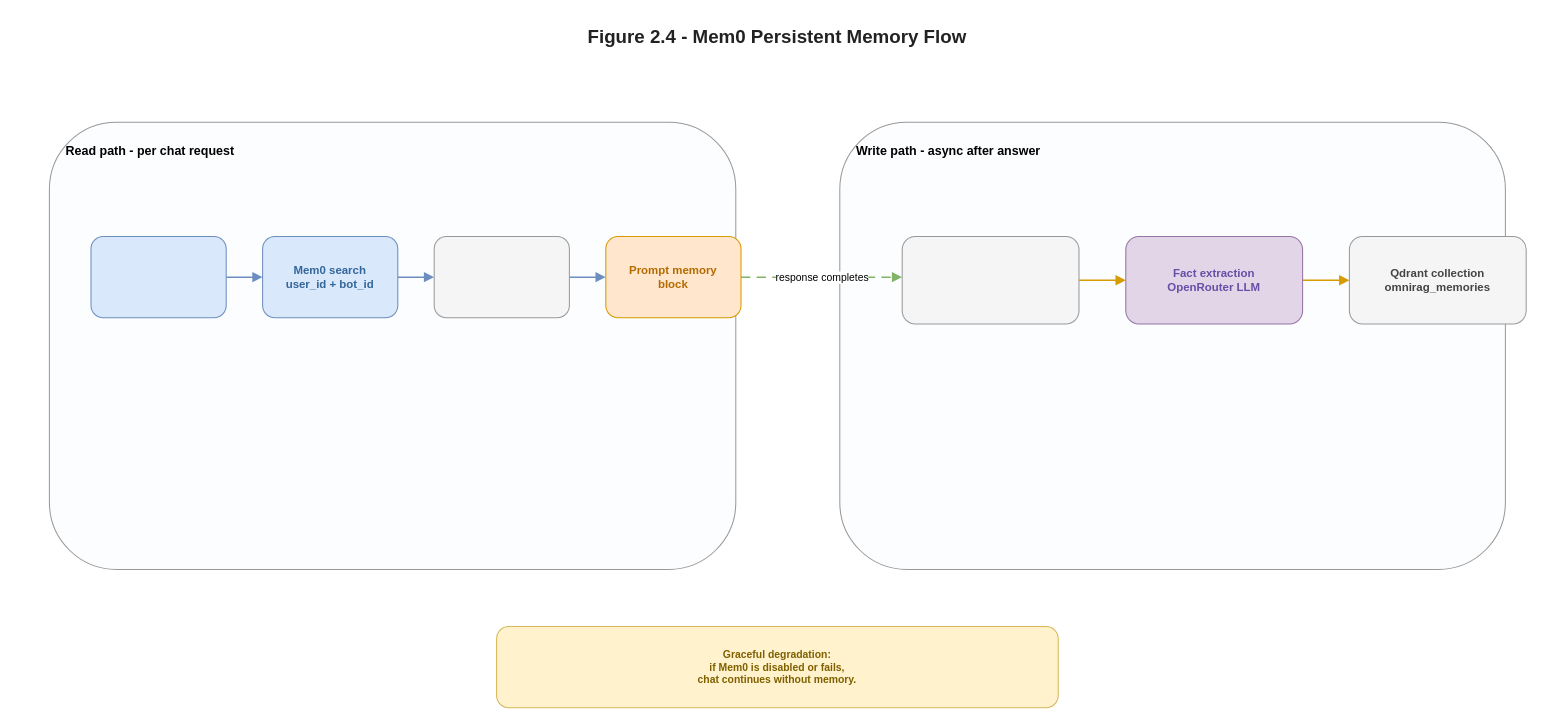
Image size: 1554x726. Some labels were removed from this diagram. The centre of each missing label's shape, as x and y in pixels:
Conversation turn user + assistant: (990,280)
Top-K memory facts: (501,277)
User query: (158,277)
